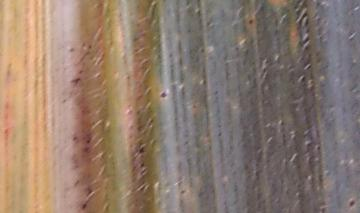tarspot: (347, 199, 356, 207), (247, 18, 255, 26), (160, 91, 167, 99), (138, 147, 145, 155), (82, 202, 87, 210), (140, 162, 146, 168), (86, 138, 91, 145)
